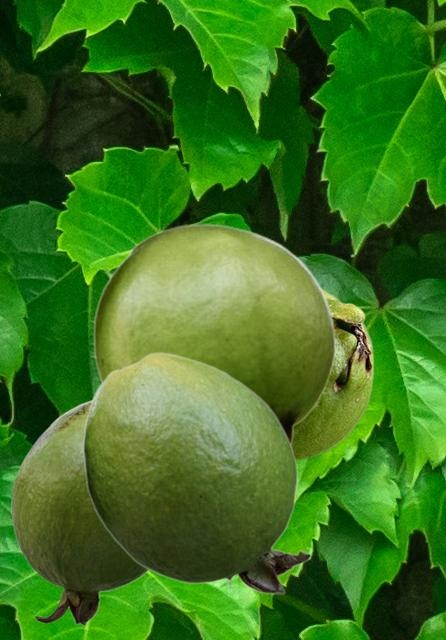guava: (82, 351, 311, 593), (92, 223, 335, 444), (11, 398, 148, 625), (293, 288, 373, 460)
